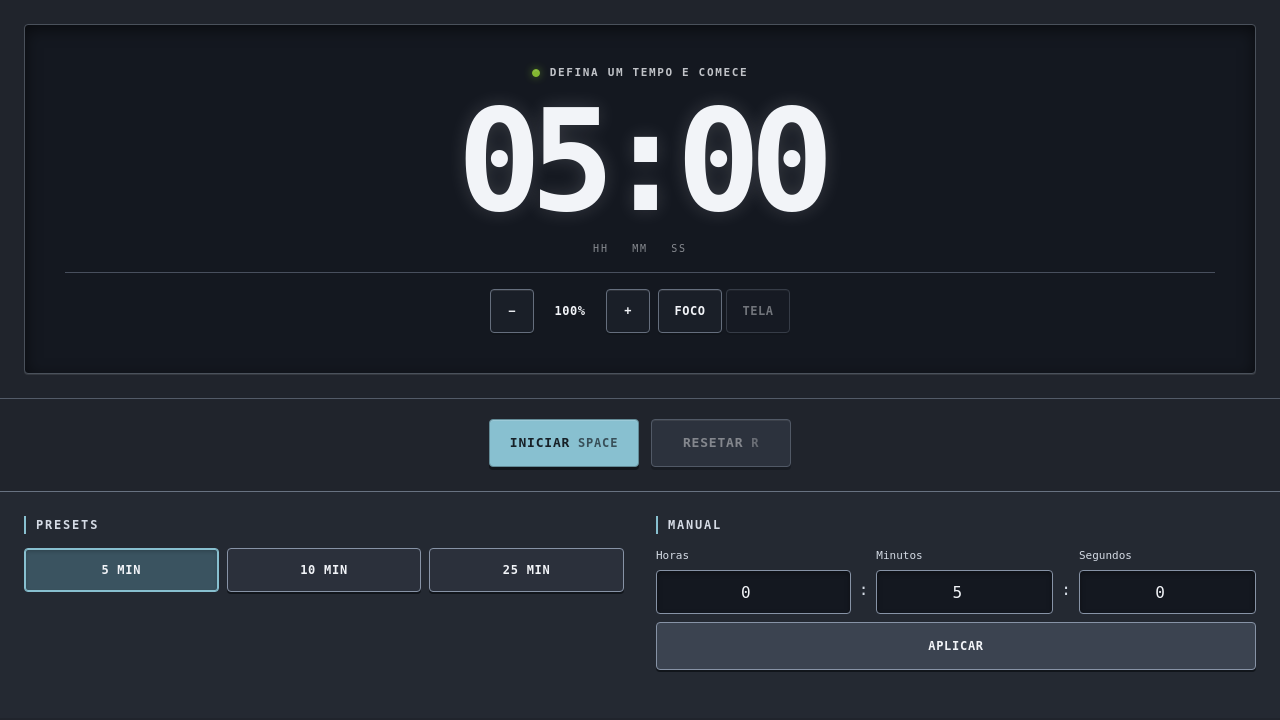
Test: TimerPanel › applies a preset and reflects the selected duration
The image size is (1280, 720).
Click the button with aria-label "Definir Timer para 10 minutos": (324,570) [227,548,421,592]
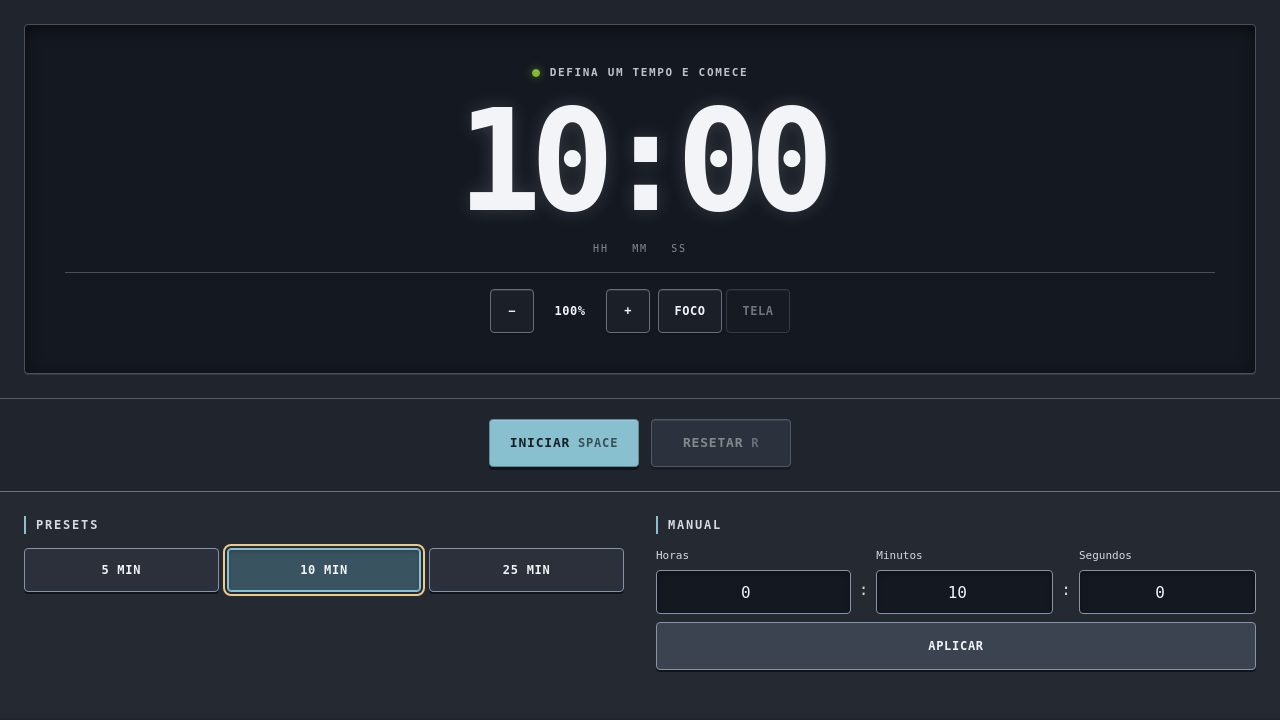
Result: the text named "Timer: 10:00" is shown at [457,98,823,226]
